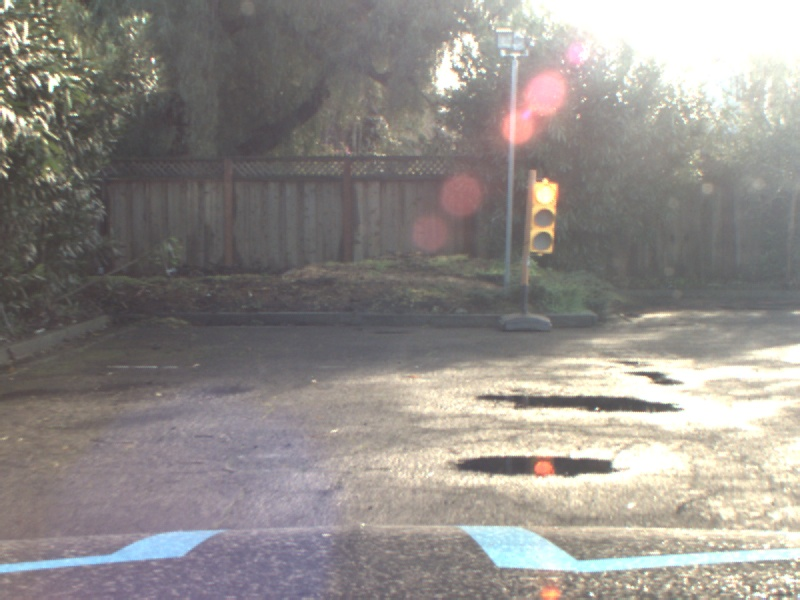Red: (531, 179, 557, 253)
